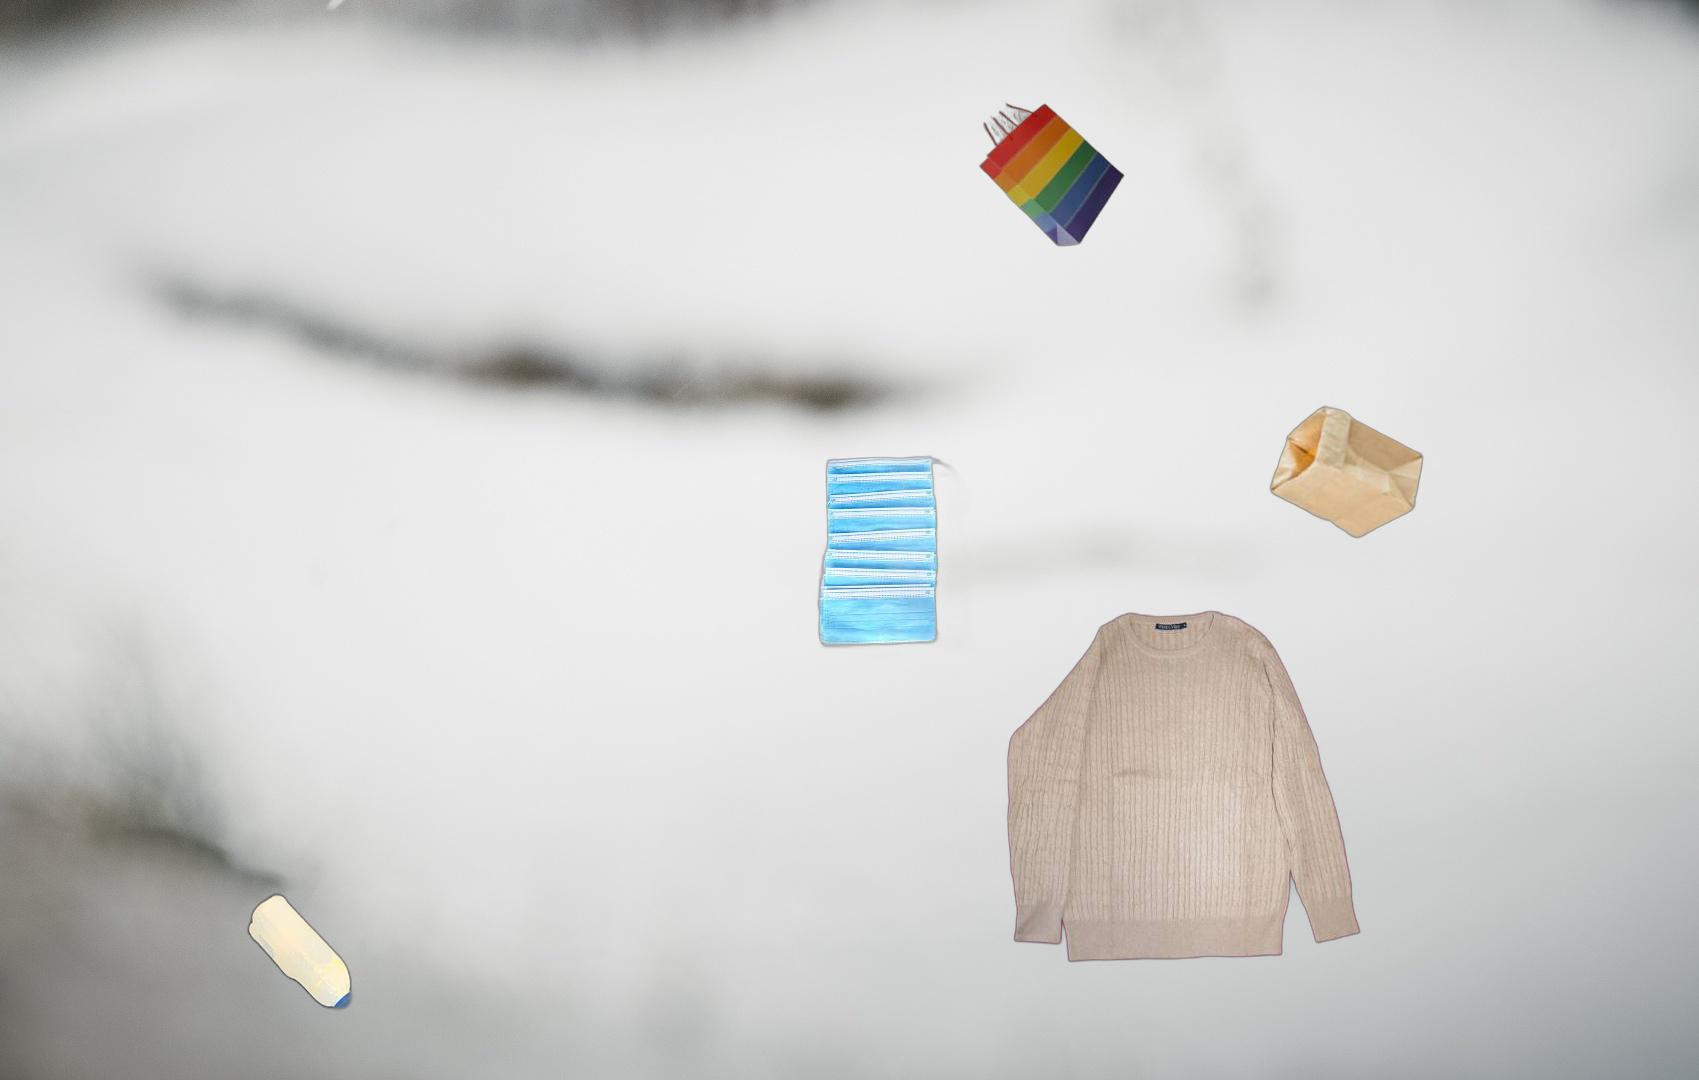clothes: (1004, 606, 1363, 967)
paper-bag: (977, 100, 1124, 248), (1267, 404, 1427, 539)
plastic-bottles: (244, 889, 355, 1016)
trash: (814, 455, 975, 654)
